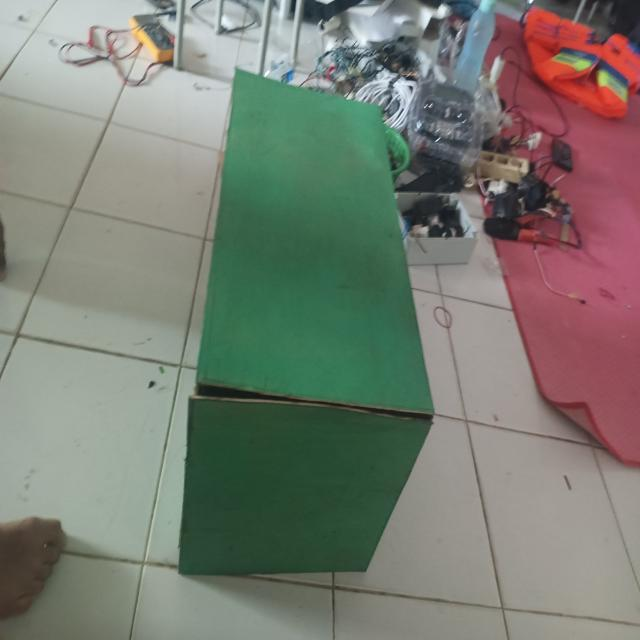green_box: (178, 56, 414, 584)
